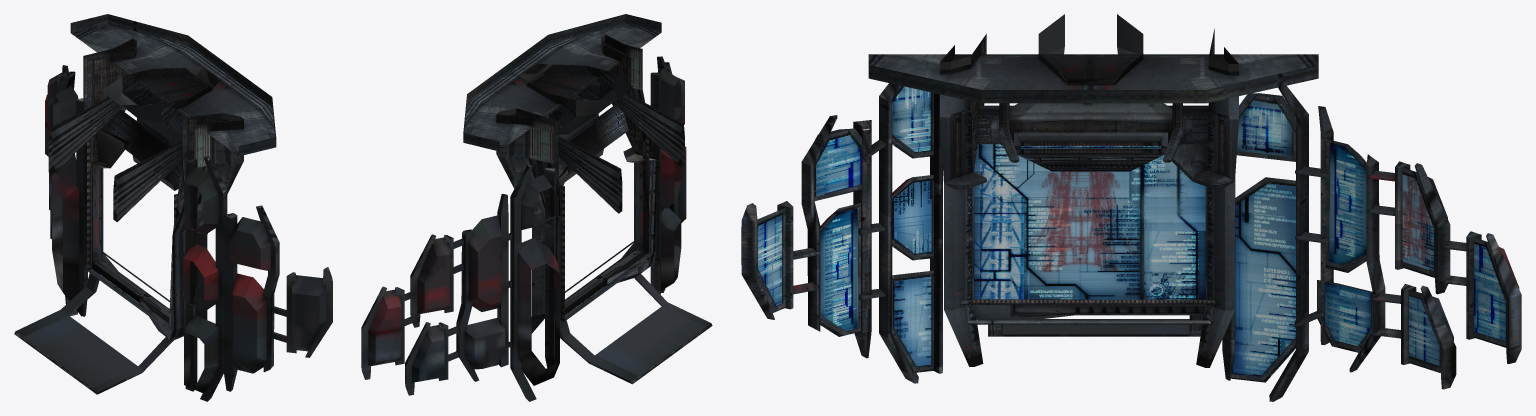
File: combine_monitorbay.glb
The picture shows the model from 3 angles, left to right: view 1: azimuth 30°, elevation 25°; view 2: azimuth 150°, elevation 25°; view 3: azimuth 270°, elevation 25°; orthographic projection. The views are drawn at different scales.
Visible parts, largest first — view 1: combine_monitorbay; view 2: combine_monitorbay; view 3: combine_monitorbay.
Part boxes in pixels (box(x1,y1,x2,y2)): combine_monitorbay: box(14, 14, 332, 401); combine_monitorbay: box(361, 14, 712, 401); combine_monitorbay: box(741, 14, 1521, 401).
Bounding box in the file's own units: 1.49 × 2.27 × 4.36.
Materials: 2 (2 with a texture image).
